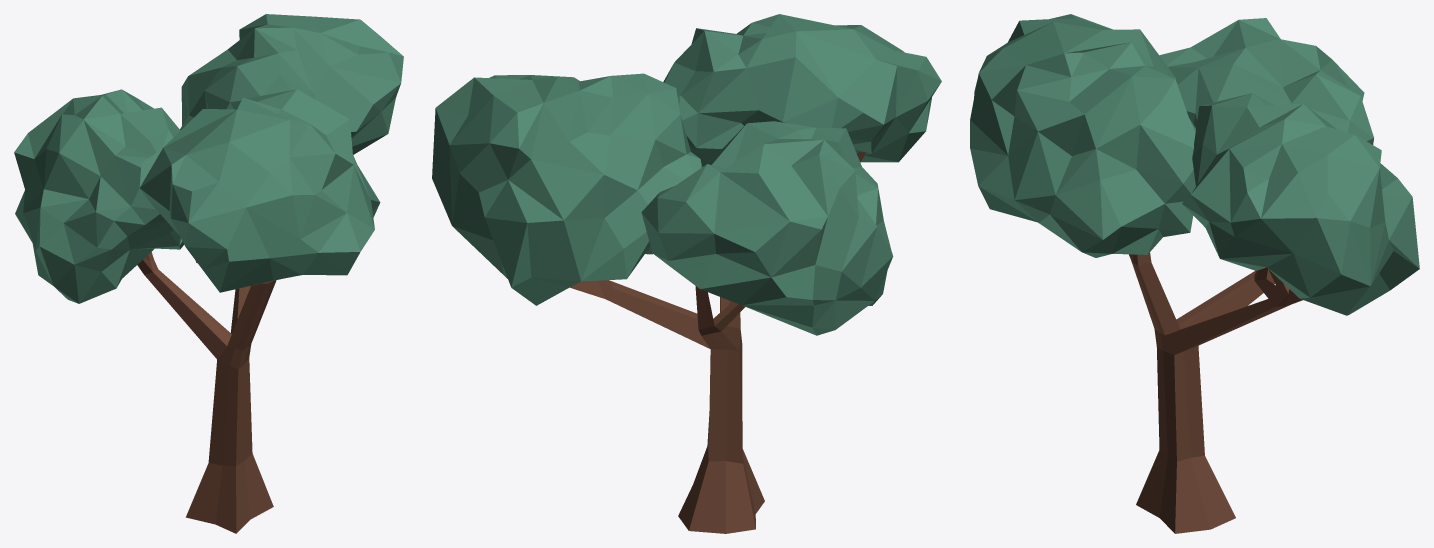
3 renders of one model, left to right at view 1: azimuth 30°, elevation 25°; view 2: azimuth 150°, elevation 25°; view 3: azimuth 270°, elevation 25°, orthographic. The views are drawn at different scales.
Parts seen in each view (by area): view 1: Tree_average_regular; view 2: Tree_average_regular; view 3: Tree_average_regular.
Part boxes in pixels (<box>): Tree_average_regular: <box>14,14,403,533</box>; Tree_average_regular: <box>432,14,941,533</box>; Tree_average_regular: <box>970,14,1419,533</box>.
Bounding box in the file's own units: 0.1182 × 0.128 × 0.1116.
